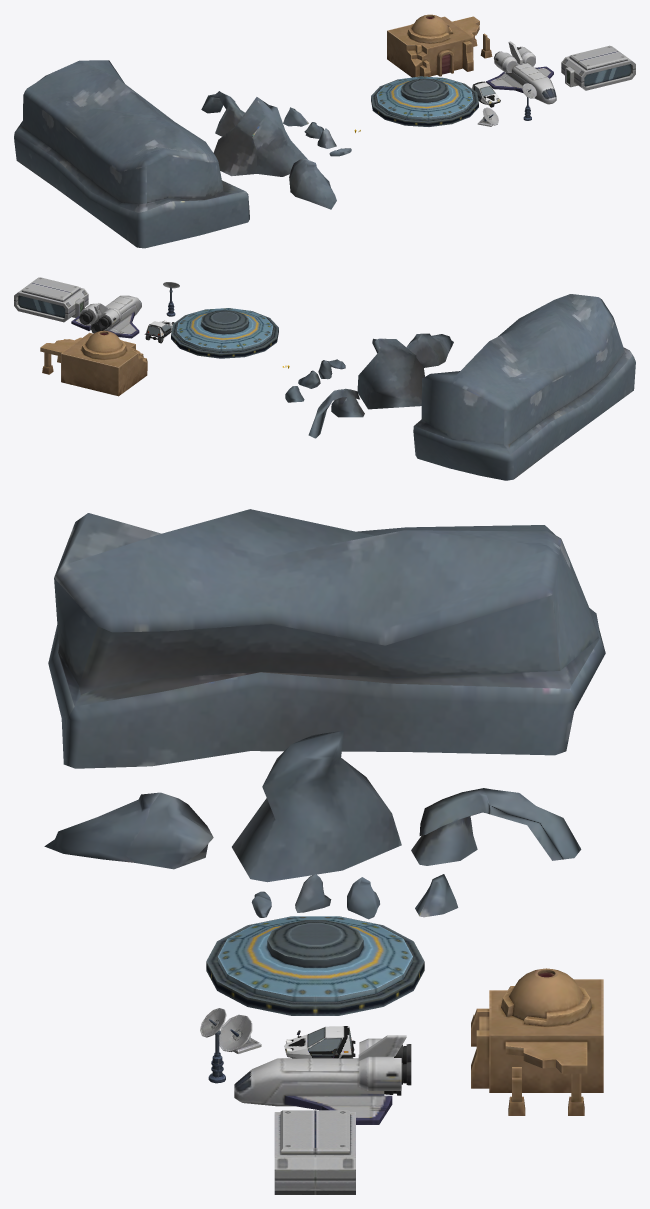
File: Props.fbx
3 renders of one model, top to bottom at view 1: azimuth 30°, elevation 25°; view 2: azimuth 150°, elevation 25°; view 3: azimuth 270°, elevation 25°, orthographic. The views are drawn at different scales.
Parts seen in each view (by area): view 1: pCube6, SM_DL_RUINS, polySurface5, SM_DL_TARELKA_, SM_DL_DOMIK, SM_DL_SHATL_SET_1, polySurface6, polySurface7, _3Wheel; view 2: pCube6, SM_DL_RUINS, SM_DL_TARELKA_, polySurface5, SM_DL_DOMIK, SM_DL_SHATL_SET_1, polySurface7, polySurface6, _3Wheel; view 3: pCube6, SM_DL_TARELKA_, polySurface5, SM_DL_RUINS, SM_DL_SHATL_SET_1, polySurface6, SM_DL_DOMIK, polySurface7, _3Wheel, SM_DL_ANTENA_1, polySurface1, SM_DL_ANTENA_2 (+1 smaller).
Part boxes in pixels (box(x1,y1,x2,y2)): pCube6: box(14, 60, 249, 248); SM_DL_RUINS: box(387, 14, 492, 77); polySurface5: box(213, 97, 307, 176); SM_DL_TARELKA_: box(371, 76, 478, 126); SM_DL_DOMIK: box(561, 45, 635, 90); SM_DL_SHATL_SET_1: box(486, 41, 556, 104); polySurface6: box(289, 159, 336, 209); polySurface7: box(201, 91, 244, 136); _3Wheel: box(472, 81, 500, 105); pCube6: box(413, 294, 635, 480); SM_DL_RUINS: box(40, 330, 147, 396); SM_DL_TARELKA_: box(171, 308, 278, 358); polySurface5: box(357, 338, 424, 409); SM_DL_DOMIK: box(14, 277, 88, 322); SM_DL_SHATL_SET_1: box(71, 295, 141, 338); polySurface7: box(308, 388, 364, 438); polySurface6: box(406, 333, 453, 367); _3Wheel: box(144, 320, 174, 339); pCube6: box(48, 509, 605, 768); SM_DL_TARELKA_: box(206, 916, 424, 1015); polySurface5: box(232, 730, 401, 882); SM_DL_RUINS: box(471, 968, 603, 1115); SM_DL_SHATL_SET_1: box(234, 1035, 411, 1124); polySurface6: box(44, 792, 213, 869); SM_DL_DOMIK: box(274, 1110, 355, 1194); polySurface7: box(411, 788, 581, 865); _3Wheel: box(284, 1026, 355, 1058); SM_DL_ANTENA_1: box(219, 1014, 261, 1053); polySurface1: box(415, 874, 458, 917); SM_DL_ANTENA_2: box(200, 1008, 226, 1083).
Bounding box in the file's own units: 26.99 × 61.26 × 10.43.
